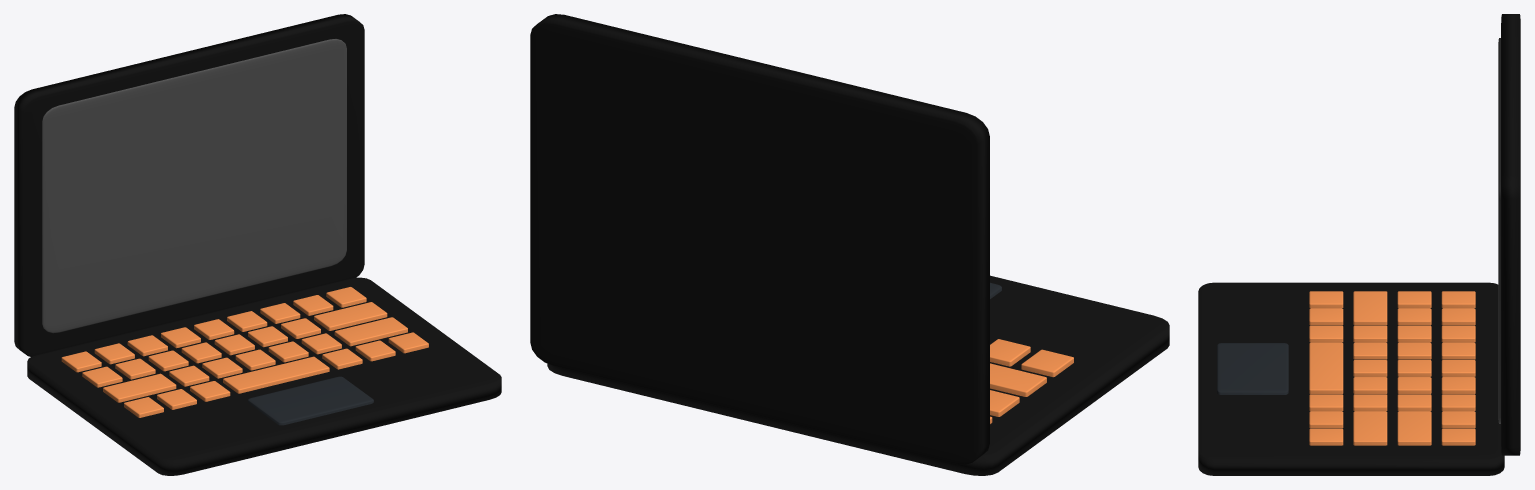
Rendered from laptop.glb.
3 renders of one model, left to right at view 1: azimuth 30°, elevation 25°; view 2: azimuth 150°, elevation 25°; view 3: azimuth 270°, elevation 25°, orthographic. The views are drawn at different scales.
Visible parts, largest first — view 1: screen, body 1, monitor body, keycaps, body 1.001; view 2: monitor body, body 1, keycaps; view 3: body 1, keycaps, monitor body, body 1.001, screen.
Part boxes in pixels (left/top/right/bottom): screen: left=42, top=39, right=346, bottom=333; body 1: left=27, top=277, right=501, bottom=475; monitor body: left=14, top=14, right=364, bottom=356; keycaps: left=61, top=287, right=428, bottom=417; body 1.001: left=248, top=376, right=373, bottom=425; monitor body: left=530, top=14, right=989, bottom=464; body 1: left=547, top=275, right=1169, bottom=475; keycaps: left=990, top=339, right=1073, bottom=423; body 1: left=1198, top=282, right=1504, bottom=475; keycaps: left=1309, top=291, right=1475, bottom=445; monitor body: left=1501, top=14, right=1520, bottom=455; body 1.001: left=1217, top=343, right=1288, bottom=394; screen: left=1498, top=38, right=1500, bottom=423.
Size of the model in its own units: 2 by 1.54 by 1.54.
